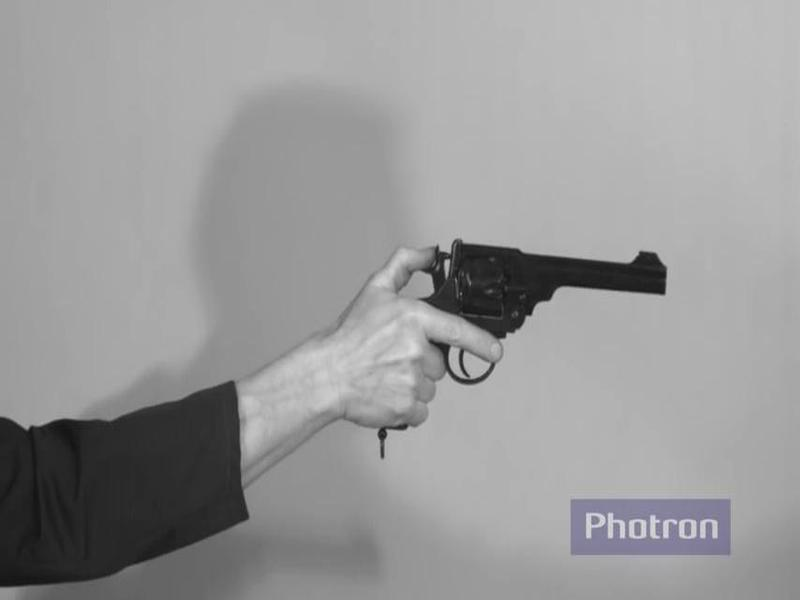Revolver: (391, 203, 754, 417)
